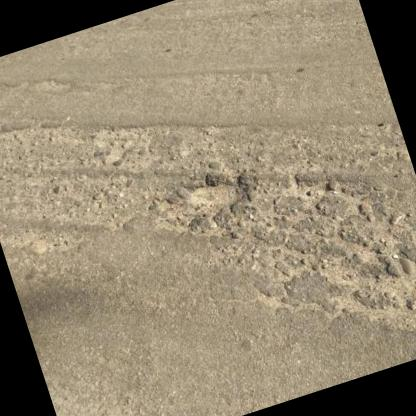pothole: (180, 168, 252, 218)
